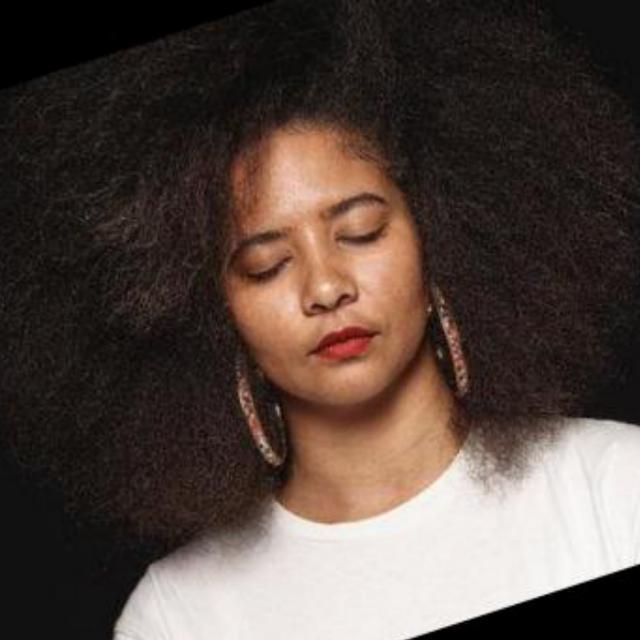Natural: (122, 126, 505, 475)
